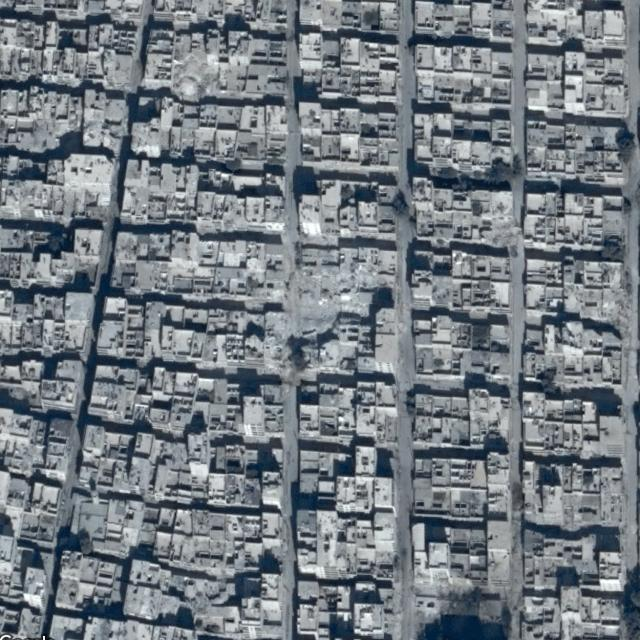damaged_building: (262, 260, 390, 384), (171, 51, 226, 103), (595, 275, 636, 341), (479, 212, 522, 258)
